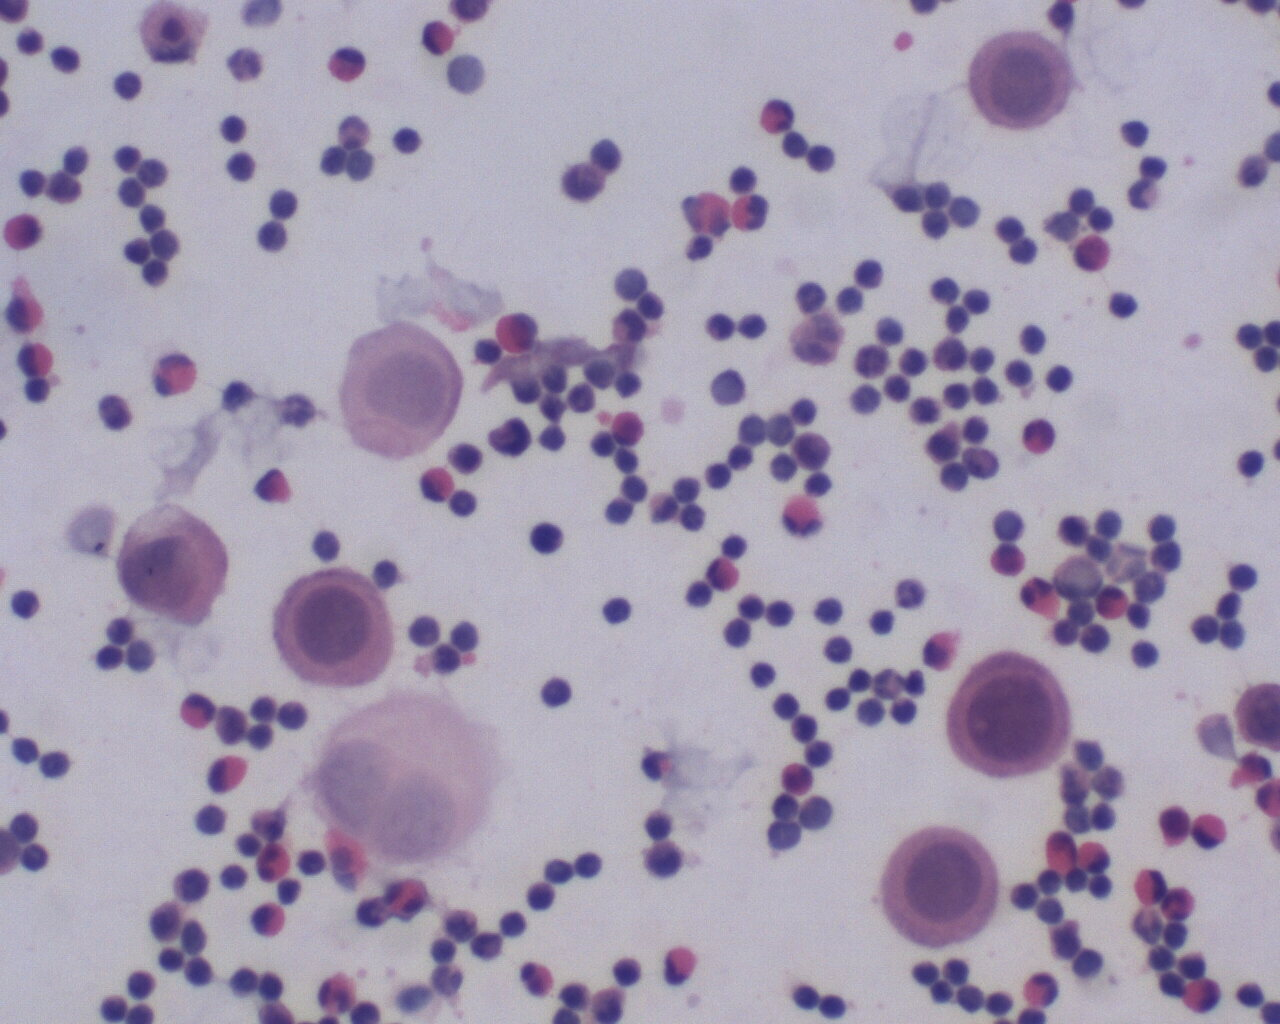ab: (267, 560, 393, 695), (944, 650, 1070, 783), (879, 821, 1004, 953), (962, 28, 1080, 138)
lymph: (597, 591, 642, 634), (526, 518, 568, 562), (743, 653, 784, 695), (263, 181, 304, 222), (533, 675, 578, 712), (1041, 358, 1080, 399), (192, 799, 228, 842), (213, 113, 257, 147), (385, 120, 424, 158), (7, 584, 45, 621), (761, 594, 798, 630), (495, 907, 529, 942)
